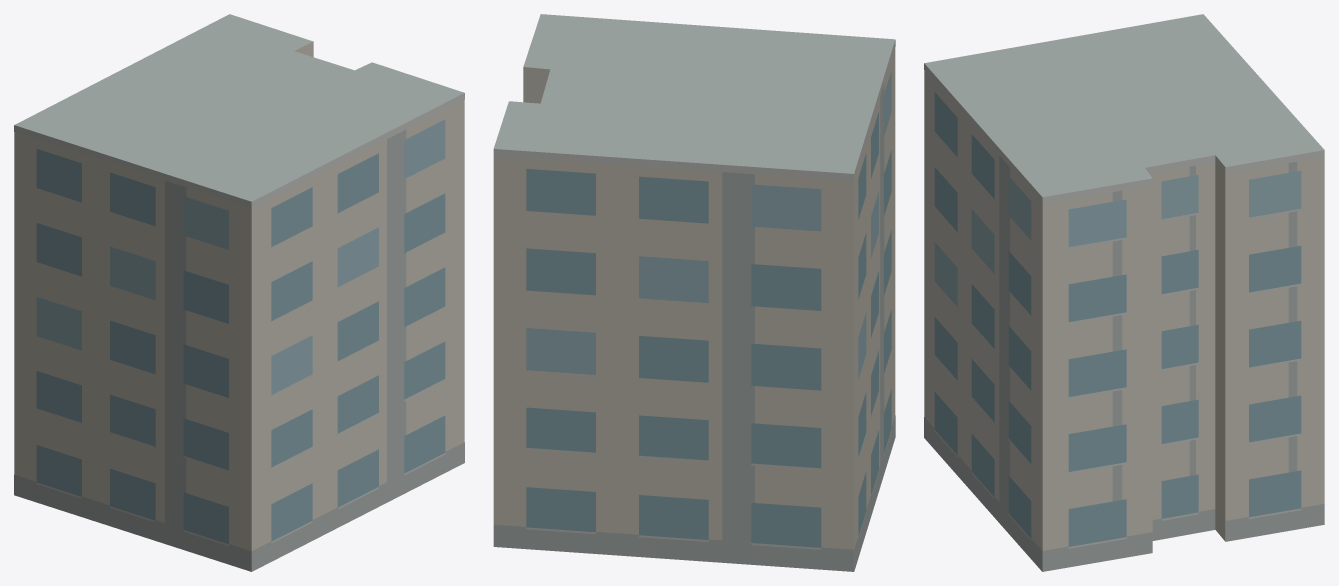
Rendered from survey-upis-32847293.glb.
3 views of the same model, side by side, from view 1: azimuth 30°, elevation 25°; view 2: azimuth 150°, elevation 25°; view 3: azimuth 270°, elevation 25° (orthographic). The views are drawn at different scales.
Parts seen in each view (by area): view 1: survey-upis-32847293.tmp; view 2: survey-upis-32847293.tmp; view 3: survey-upis-32847293.tmp.
Boxes of the visible parts, <box> form: survey-upis-32847293.tmp: <box>14,14,464,571</box>; survey-upis-32847293.tmp: <box>493,14,895,571</box>; survey-upis-32847293.tmp: <box>924,14,1324,571</box>.
Bounding box in the file's own units: 14.01 × 13.35 × 12.95.
